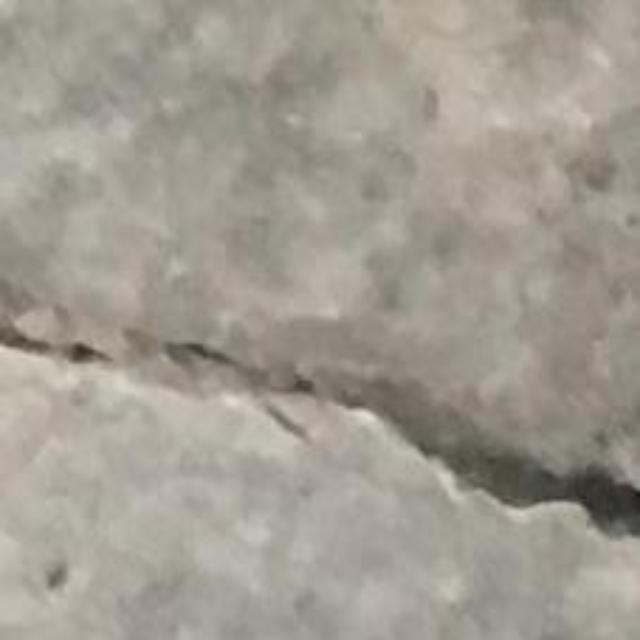crack: (0, 280, 639, 532)
